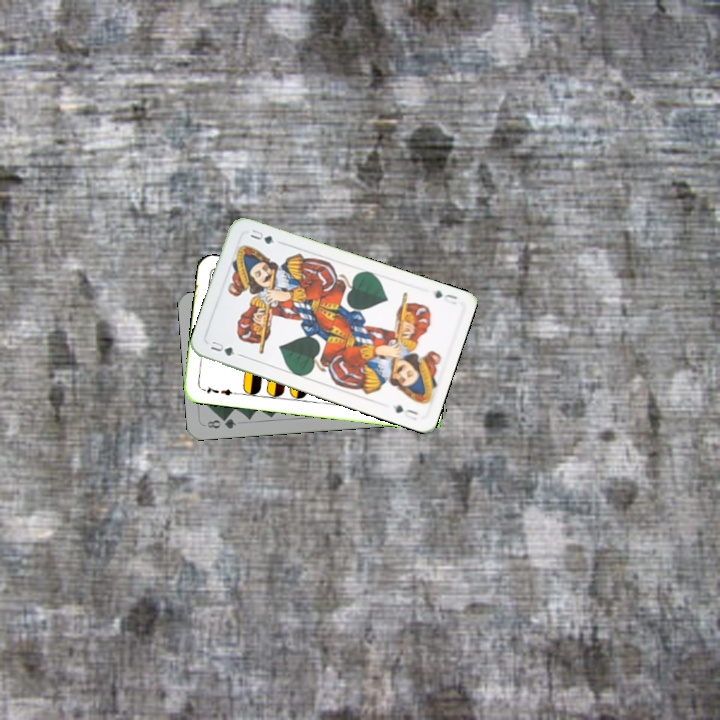E7: (198, 382, 238, 398)
G8: (203, 414, 238, 431)
GU: (206, 337, 237, 359), (430, 286, 460, 307)
